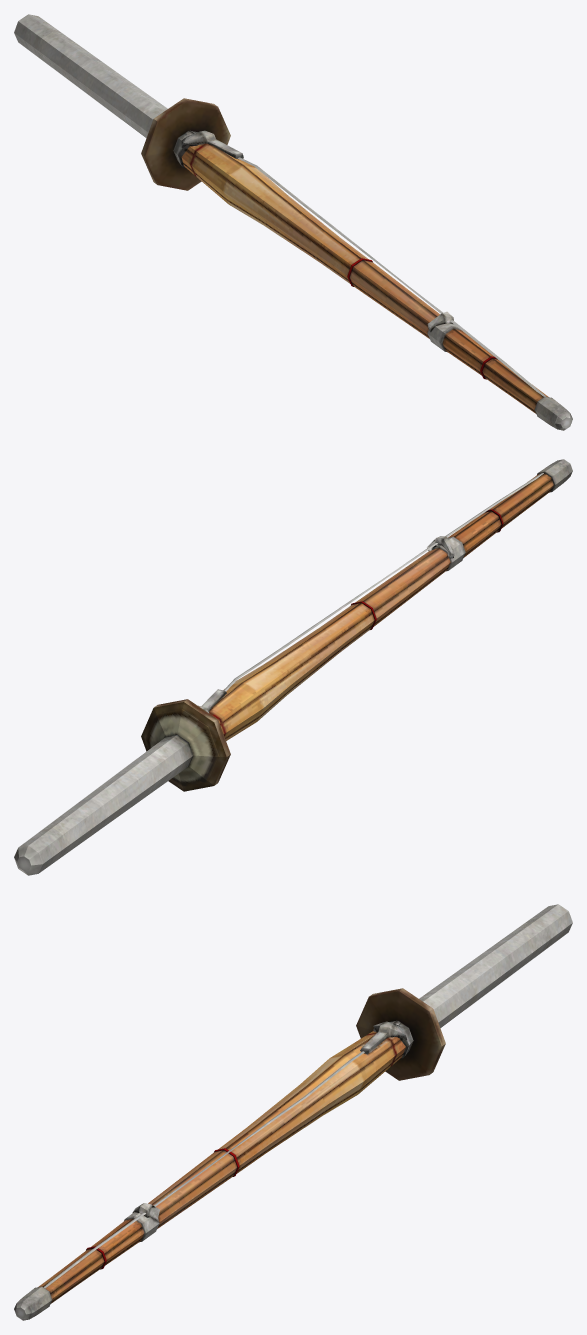
File: Weapon_Neptune2.obj
3 views of the same model, one above another, from view 1: azimuth 30°, elevation 25°; view 2: azimuth 150°, elevation 25°; view 3: azimuth 330°, elevation 25° (orthographic).
Parts seen in each view (by area): view 1: Weapon_Neptune2; view 2: Weapon_Neptune2; view 3: Weapon_Neptune2.
Boxes of the visible parts, <box> form: Weapon_Neptune2: <box>14,14,572,430</box>; Weapon_Neptune2: <box>14,459,572,875</box>; Weapon_Neptune2: <box>14,904,572,1320</box>.
Bounding box in the file's own units: 3.86 × 3.86 × 42.32.
Materials: 1 (1 with a texture image).
